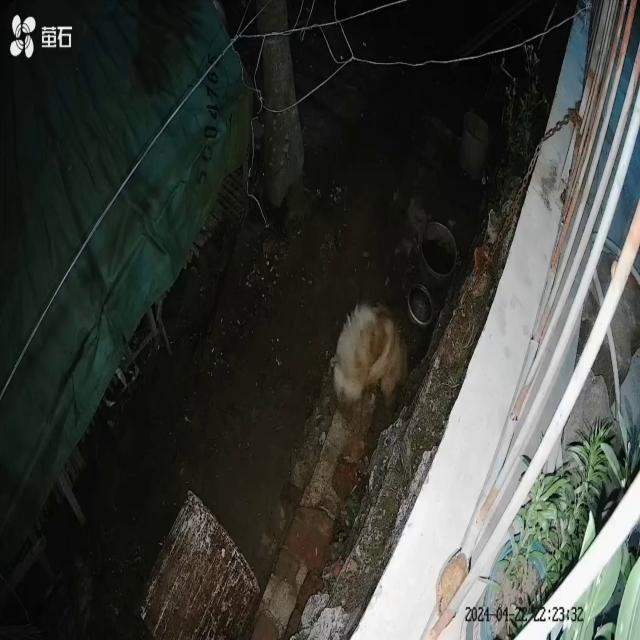dog: (332, 301, 409, 409)
